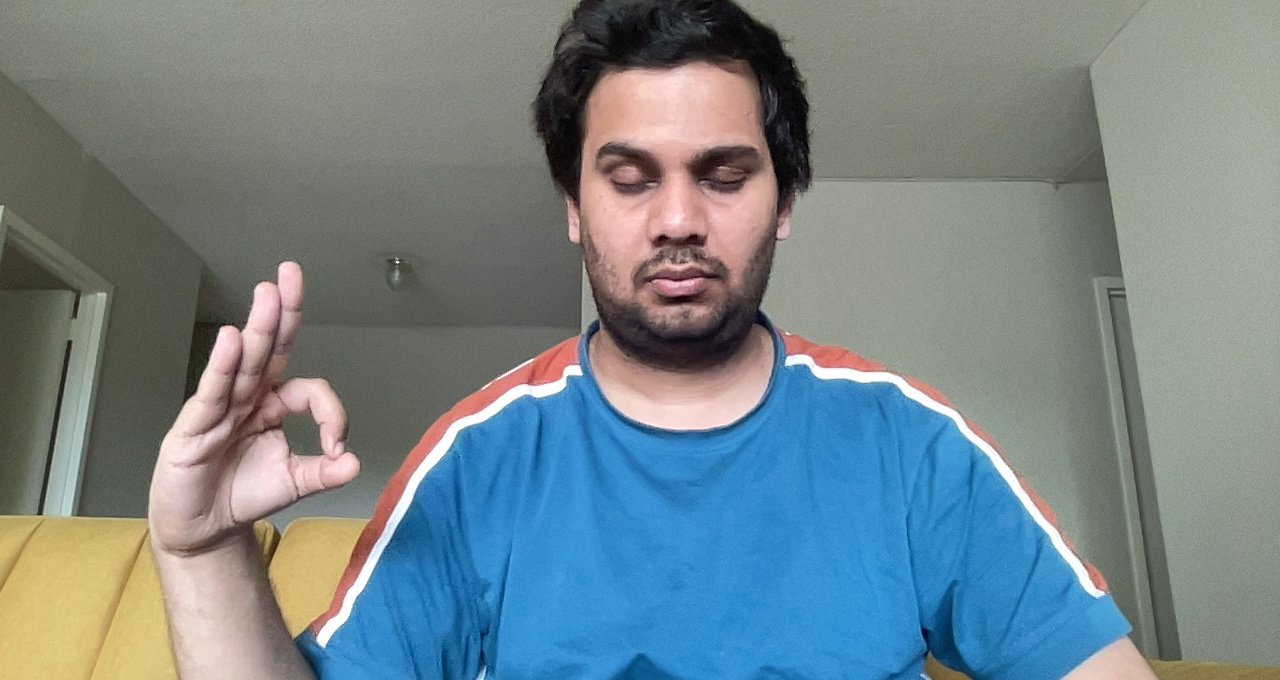ok: (149, 250, 361, 534)
